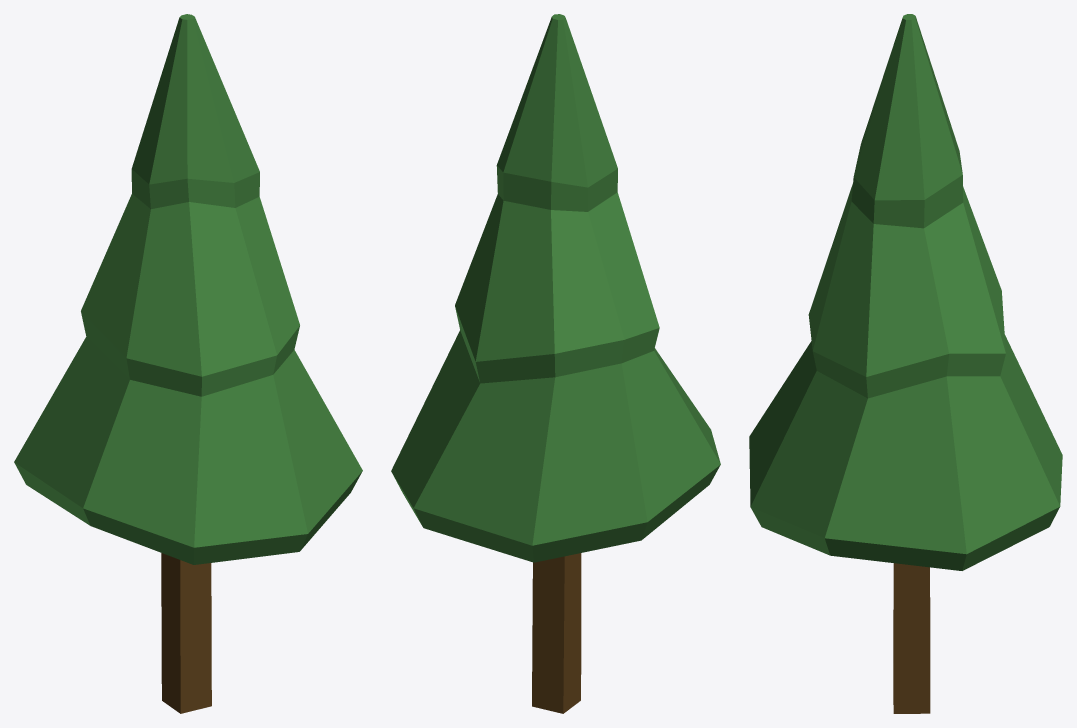
File: tree_pine_small.fbx
3 renders of one model, left to right at view 1: azimuth 30°, elevation 25°; view 2: azimuth 150°, elevation 25°; view 3: azimuth 270°, elevation 25°, orthographic.
Visible parts, largest first — view 1: pCube292; view 2: pCube292; view 3: pCube292.
Boxes of the visible parts, x1,y1,x2,y2 form: pCube292: (14,14,362,713); pCube292: (391,14,720,713); pCube292: (749,14,1062,713).
Size of the model in its own units: 2.82 by 6.8 by 2.8.
